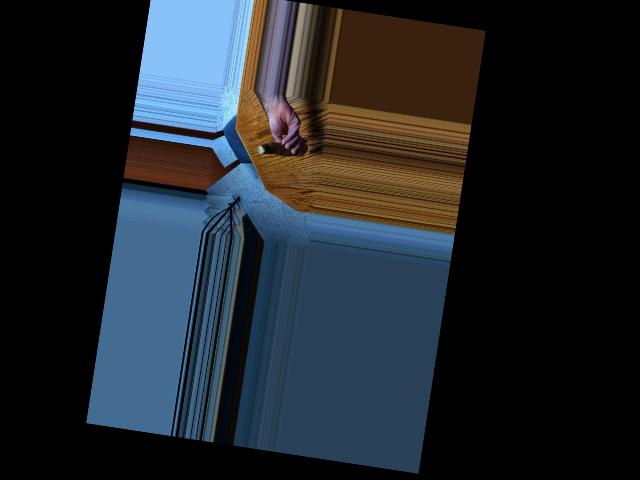sweet_potato: (252, 137, 308, 160)
